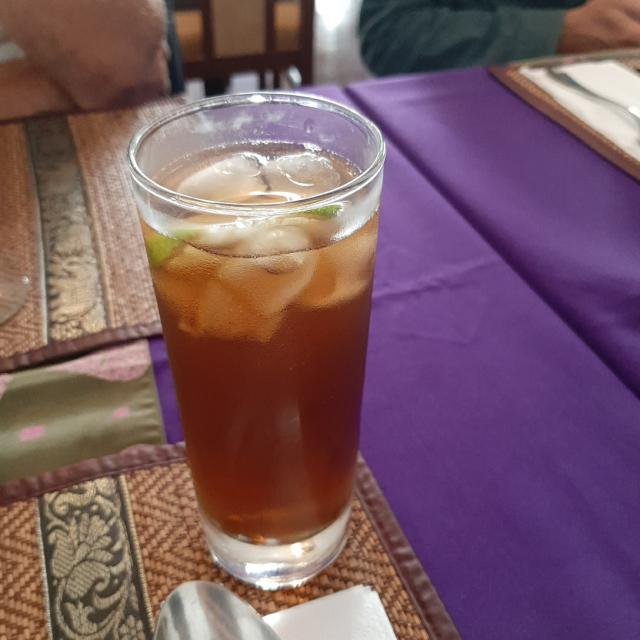ice-tea: (155, 217, 371, 541)
